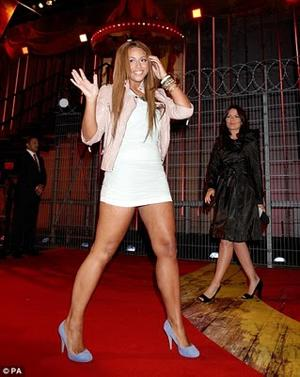person: (57, 39, 199, 362)
